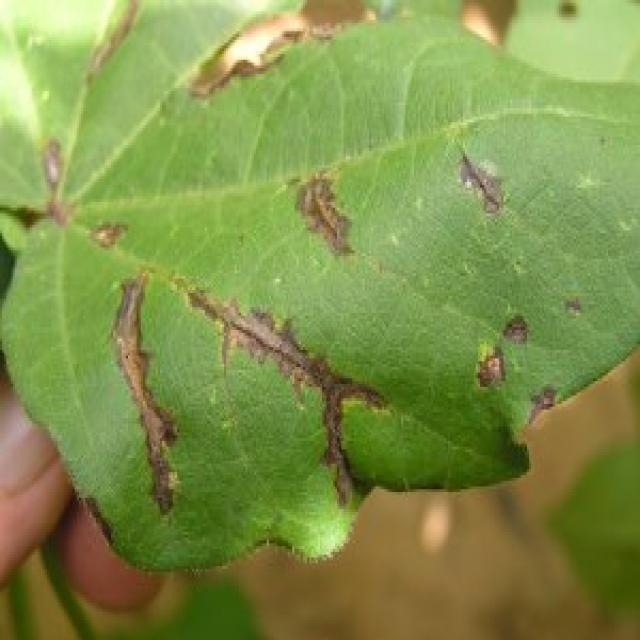Bacterial Blight: (100, 185, 518, 496)
